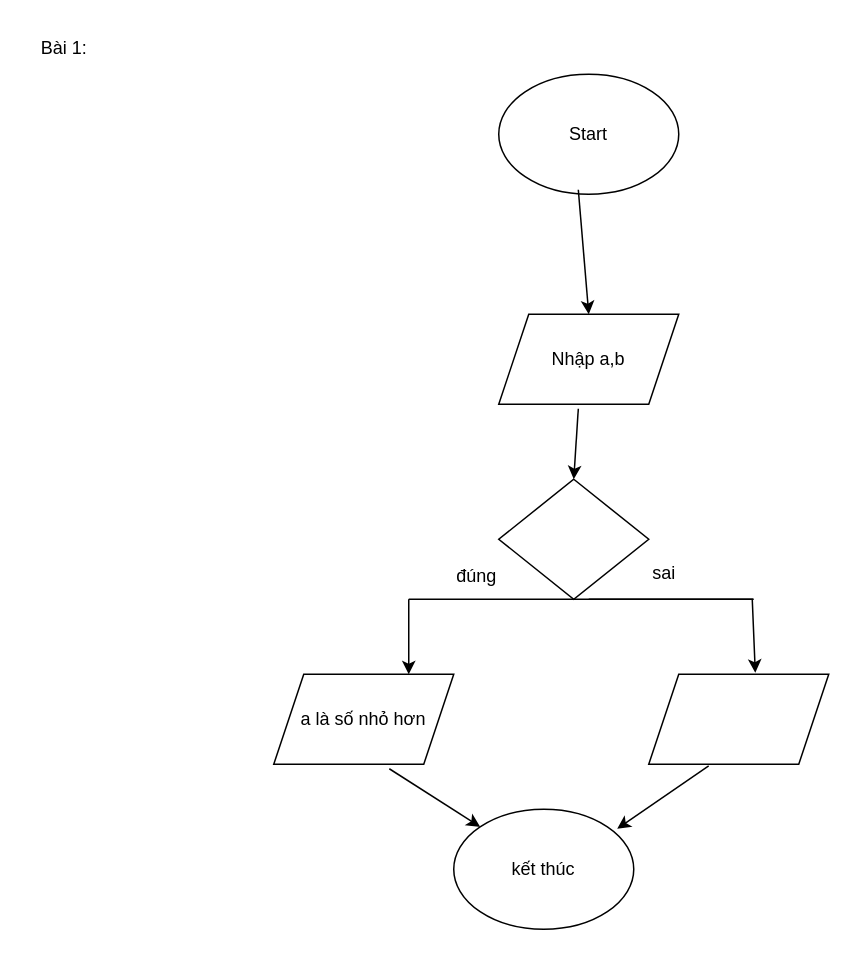
Image size: 855x956. Some labels were removed from this diagram. Each missing label, with the centre of its shape:
a<b: pixel 573 538
b là số nhỏ hơn: pixel 738 718
